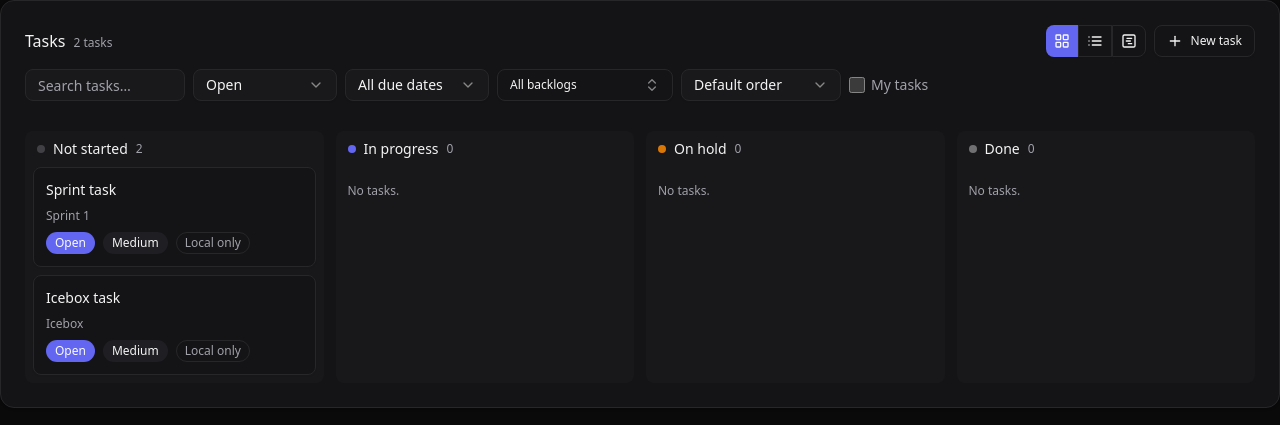
Test: TaskListSection › Bulk actions (issue #149) › selects only one backlog group's tasks from that group's own select-all checkbox
Step 1. Click the button named "List" → {"x": 1095, "y": 41}, box [1078, 25, 1112, 57]
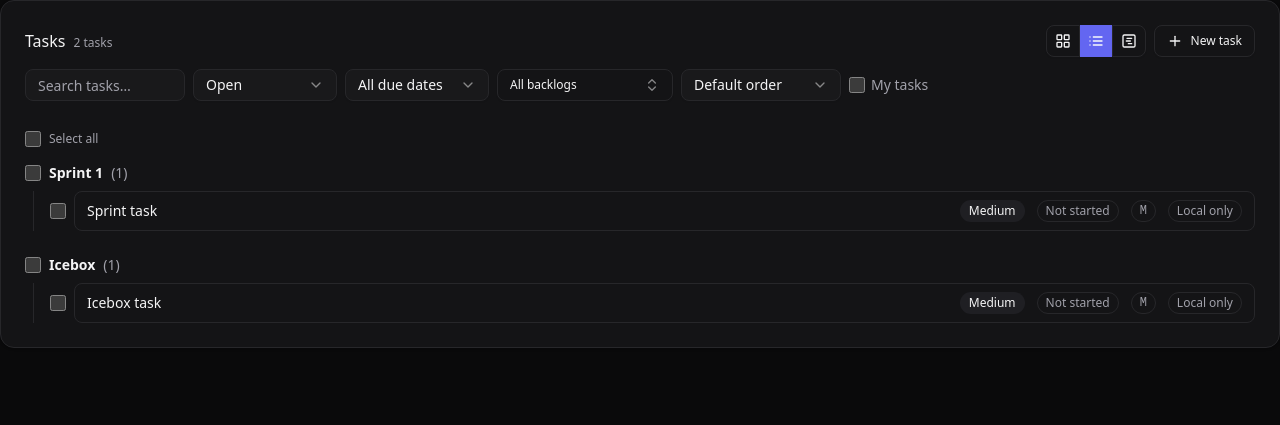
Step 2. Click the checkbox named "Select all in Sprint 1" → {"x": 33, "y": 173}, box [25, 165, 41, 181]
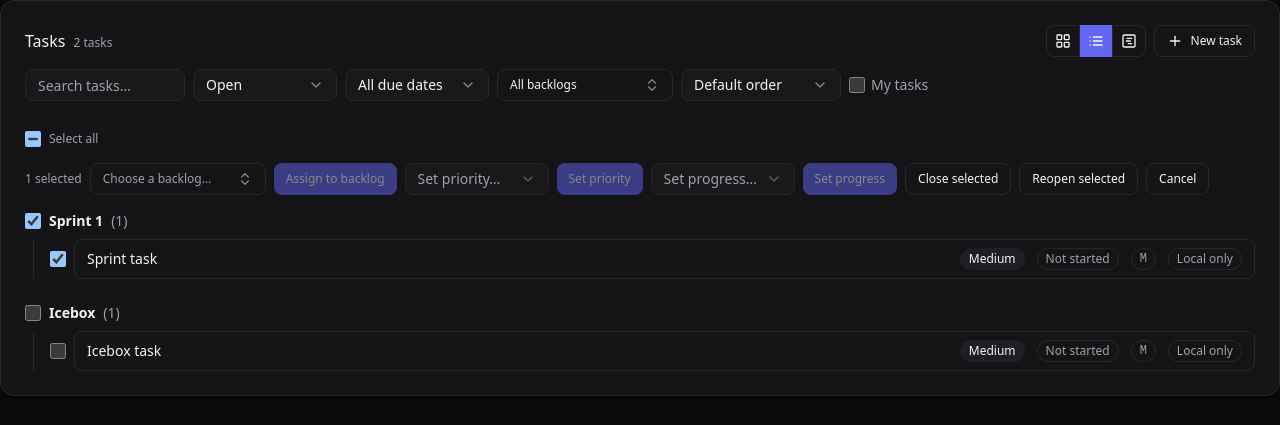
Expected: the checkbox named "Select Icebox task" is not checked, [50, 343, 66, 359]
Expected: the checkbox named "Select Sprint task" is checked, [50, 251, 66, 267]
Expected: the text "1 selected" is shown, [25, 171, 82, 187]
